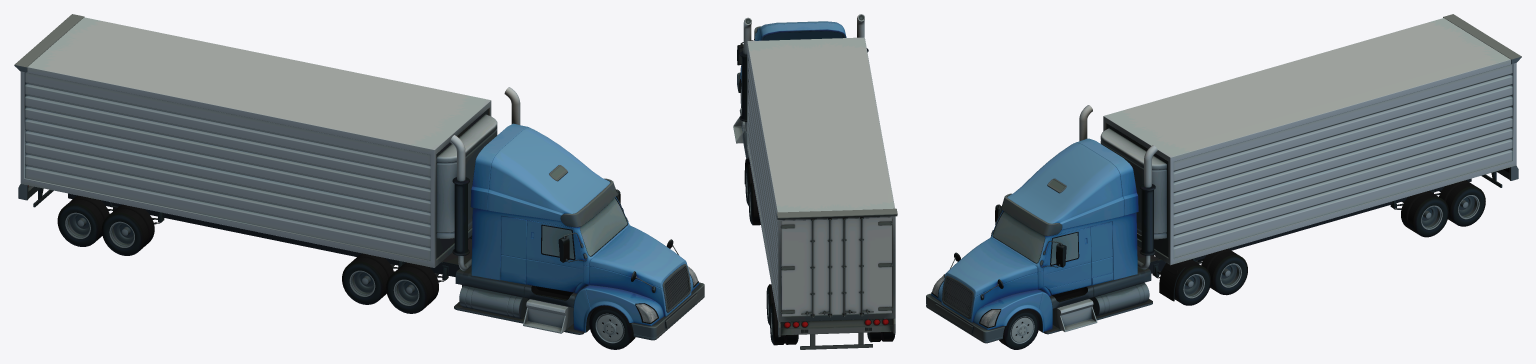
Rendered from truck.fbx.
3 renders of one model, left to right at view 1: azimuth 30°, elevation 25°; view 2: azimuth 150°, elevation 25°; view 3: azimuth 270°, elevation 25°, orthographic. The views are drawn at different scales.
Visible parts, largest first — view 1: node_id29; view 2: node_id29; view 3: node_id29.
Boxes of the visible parts, x1=… form: node_id29: x1=14, y1=14, x2=704, y2=349; node_id29: x1=733, y1=14, x2=897, y2=349; node_id29: x1=926, y1=14, x2=1521, y2=349.
Bounding box in the file's own units: 1.25 × 0.512 × 1.63.
1 material, 1 textured.
